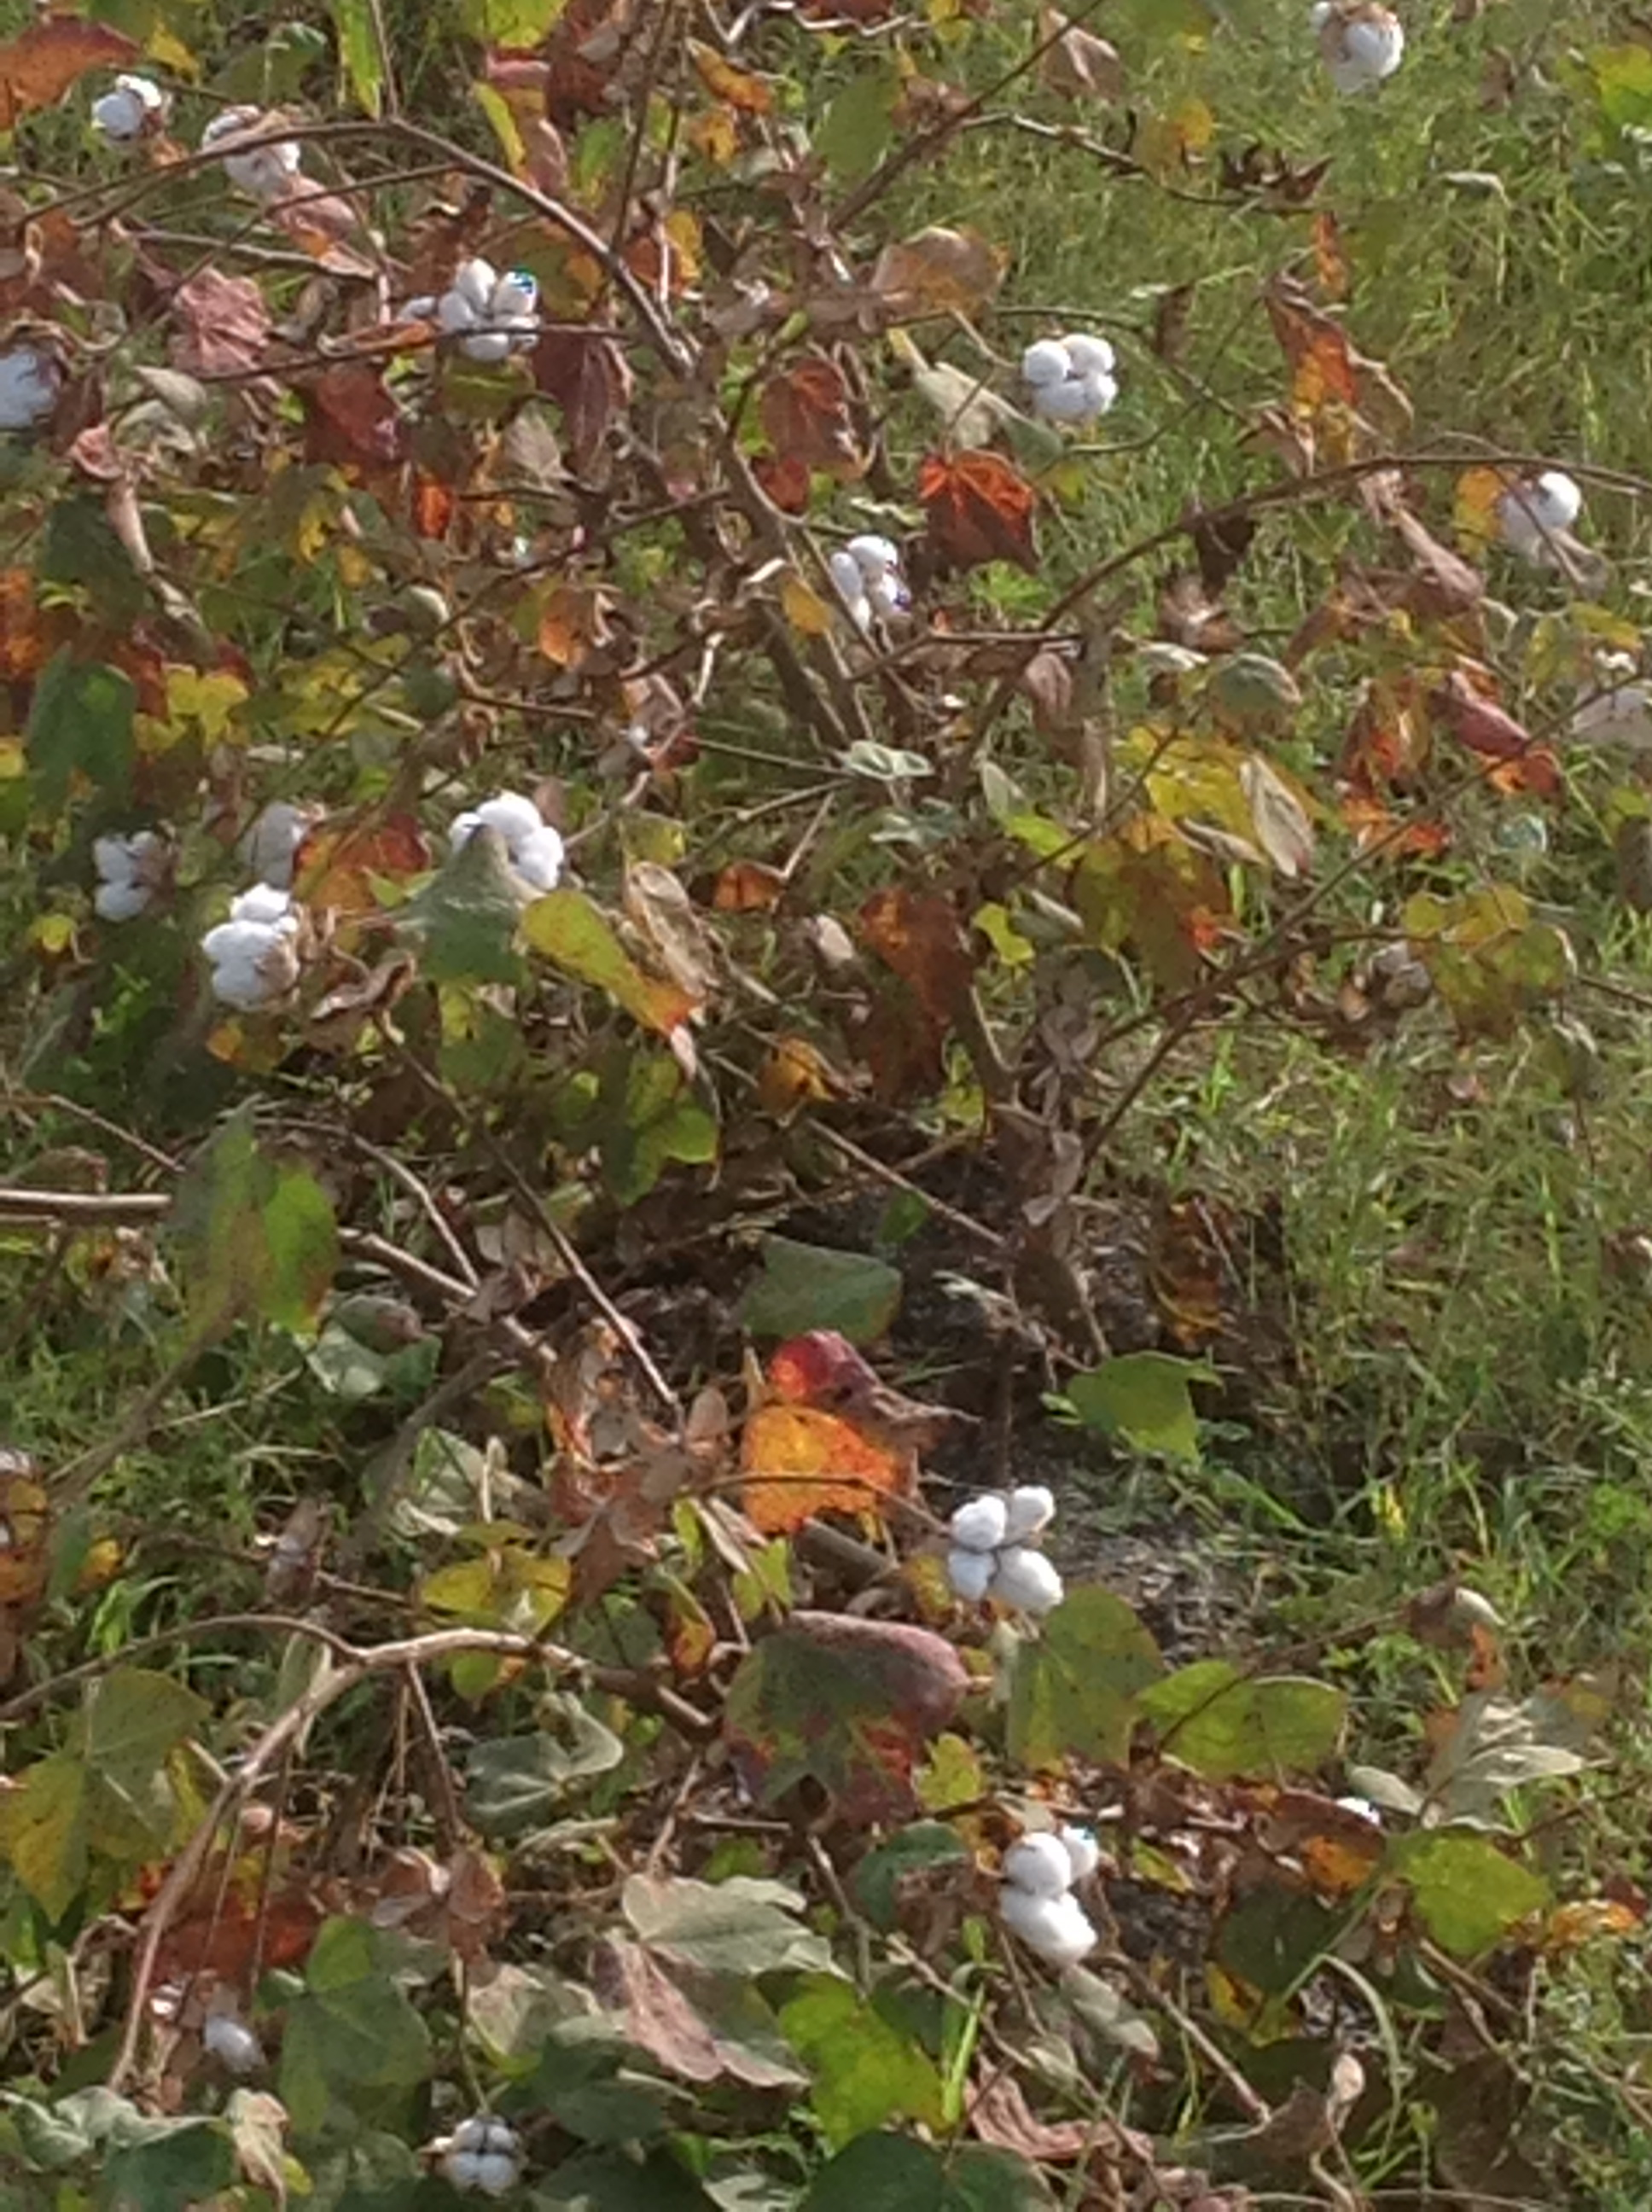cotton: (994, 1804, 1118, 1962), (416, 781, 567, 909), (941, 1482, 1065, 1627), (411, 257, 554, 378), (213, 755, 331, 895), (208, 897, 338, 1001), (62, 73, 177, 186), (1489, 451, 1574, 578), (1017, 331, 1128, 423), (88, 808, 174, 926), (828, 534, 916, 642), (429, 2108, 531, 2200), (1310, 12, 1413, 101), (0, 335, 75, 451), (212, 109, 307, 177)
